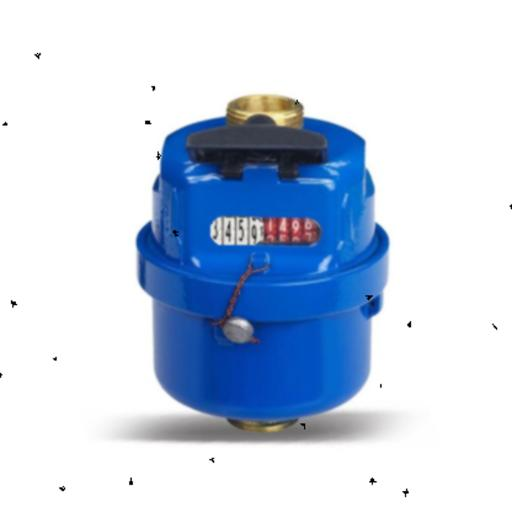1: (265, 218, 276, 244)
3: (211, 217, 222, 244)
4: (224, 218, 235, 245), (279, 219, 290, 244)
5: (237, 217, 248, 243)
6: (304, 219, 322, 244)
9: (250, 219, 263, 244), (291, 218, 302, 243)
border_water_meter_number: (210, 217, 323, 246)
